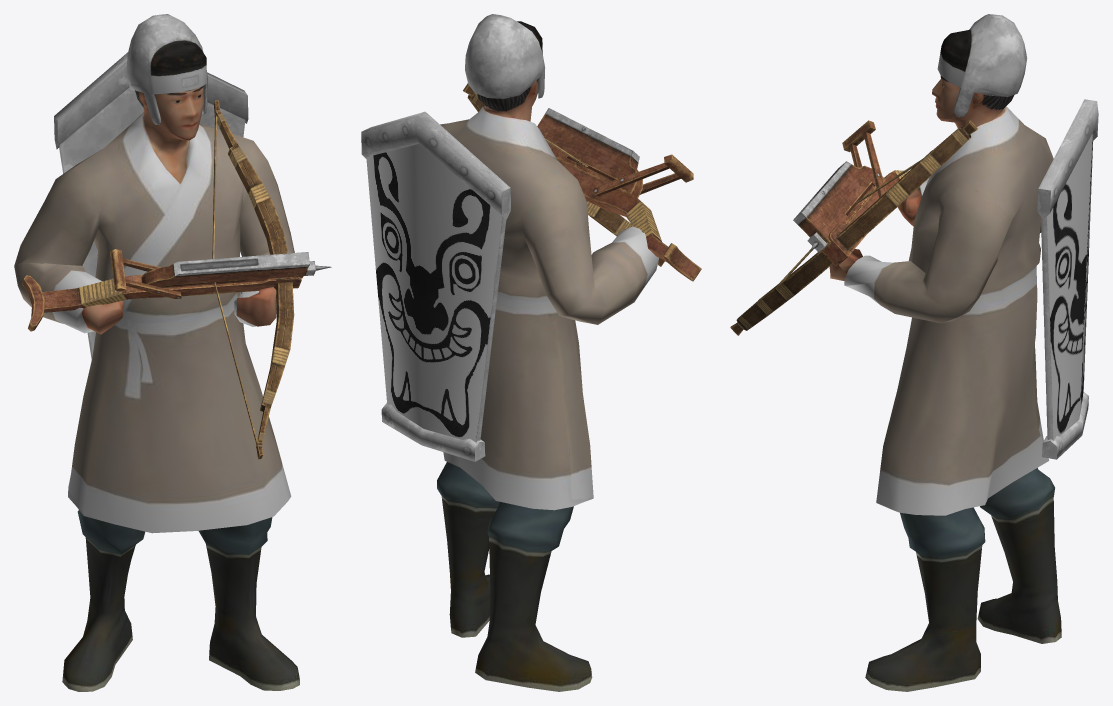
The model's file is 155-chukonu.glb.
3 renders of one model, left to right at view 1: azimuth 30°, elevation 25°; view 2: azimuth 150°, elevation 25°; view 3: azimuth 270°, elevation 25°, orthographic.
Bounding box in the file's own units: 0.9615 × 2.14 × 1.12.
Materials: 4 (4 with a texture image).
